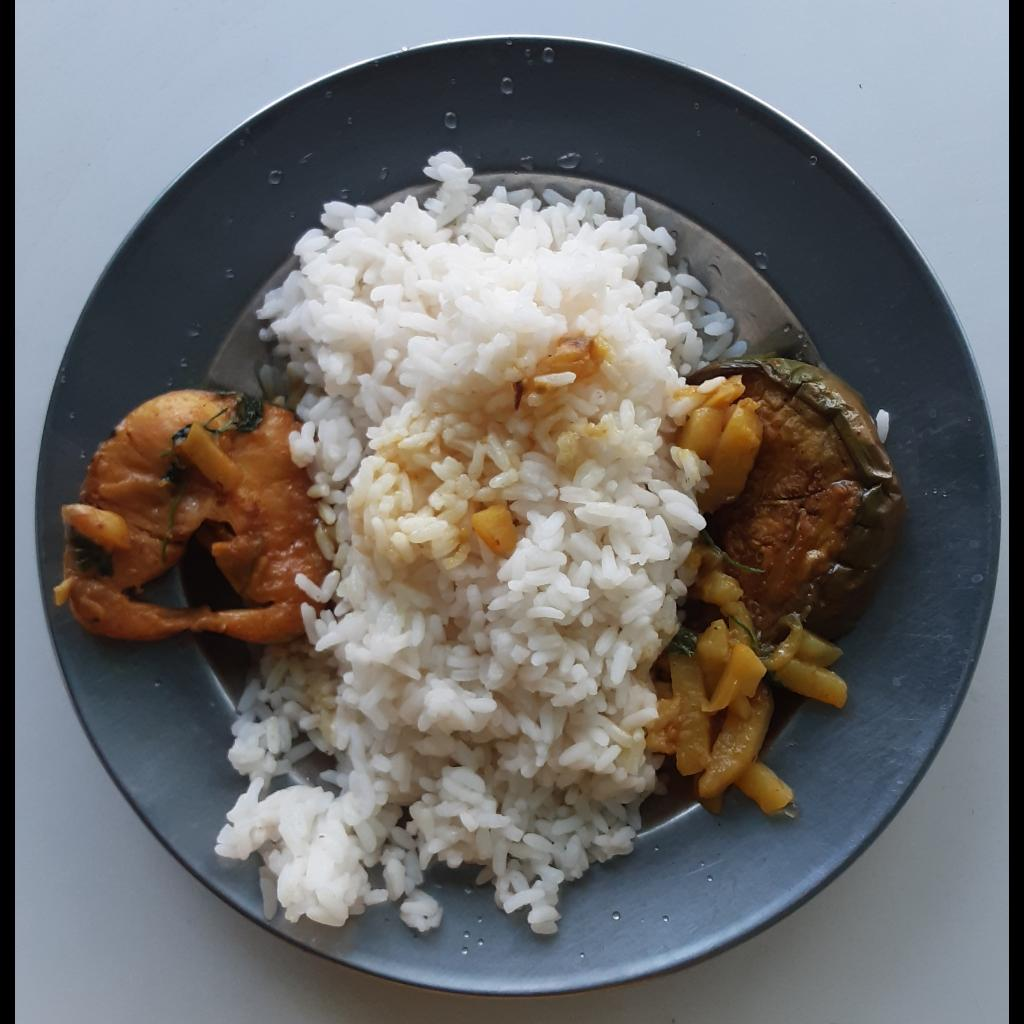begun-vaji: (689, 351, 908, 641)
fish: (56, 387, 324, 647)
potato: (652, 546, 847, 830), (669, 369, 755, 510)
rice: (210, 152, 746, 943)
